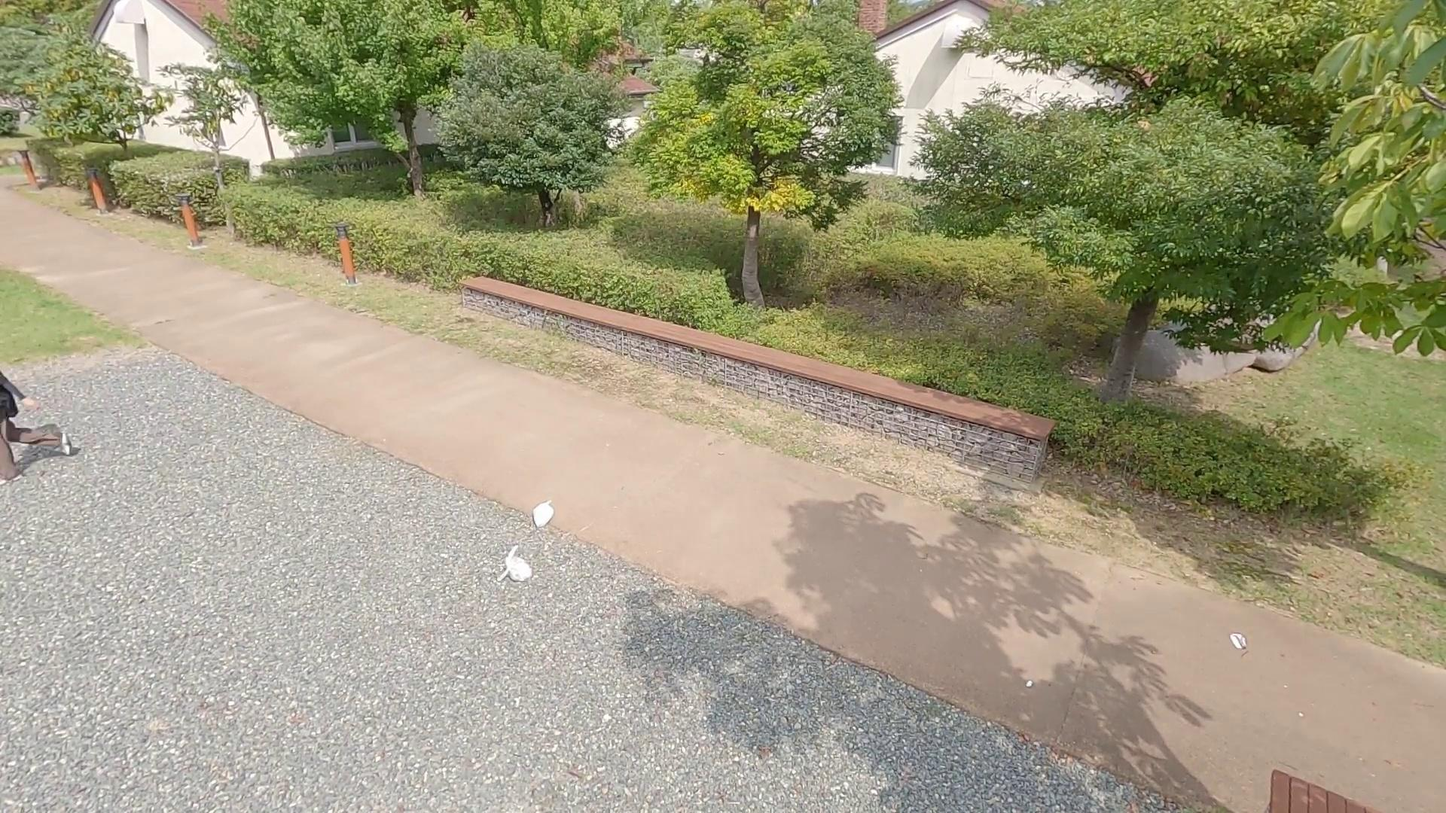person: (0, 361, 84, 505)
trash: (501, 547, 538, 590), (530, 498, 562, 531)
